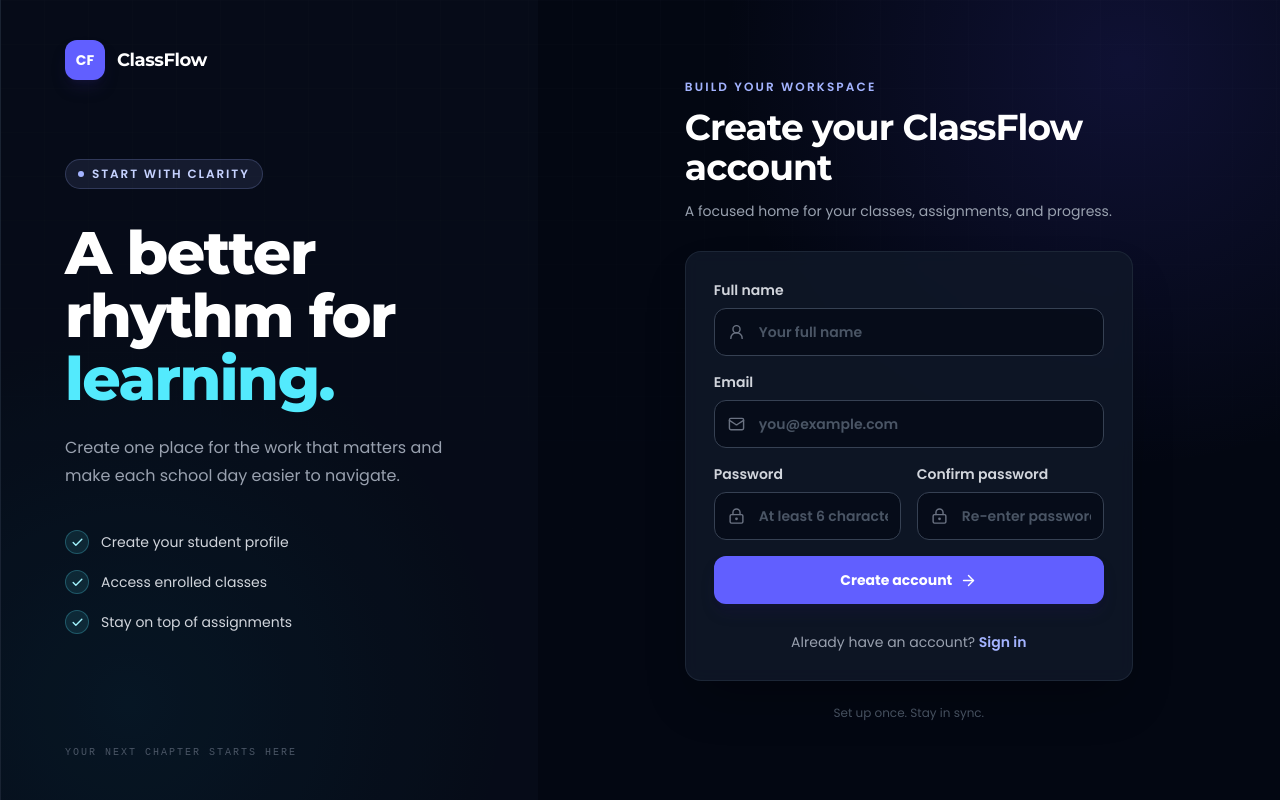
Test: Signup › submits normalized data and shows the loading spinner
Type " Ada Lovelace " into the field labelled "Full name" at (909, 332), box [714,308,1104,356]
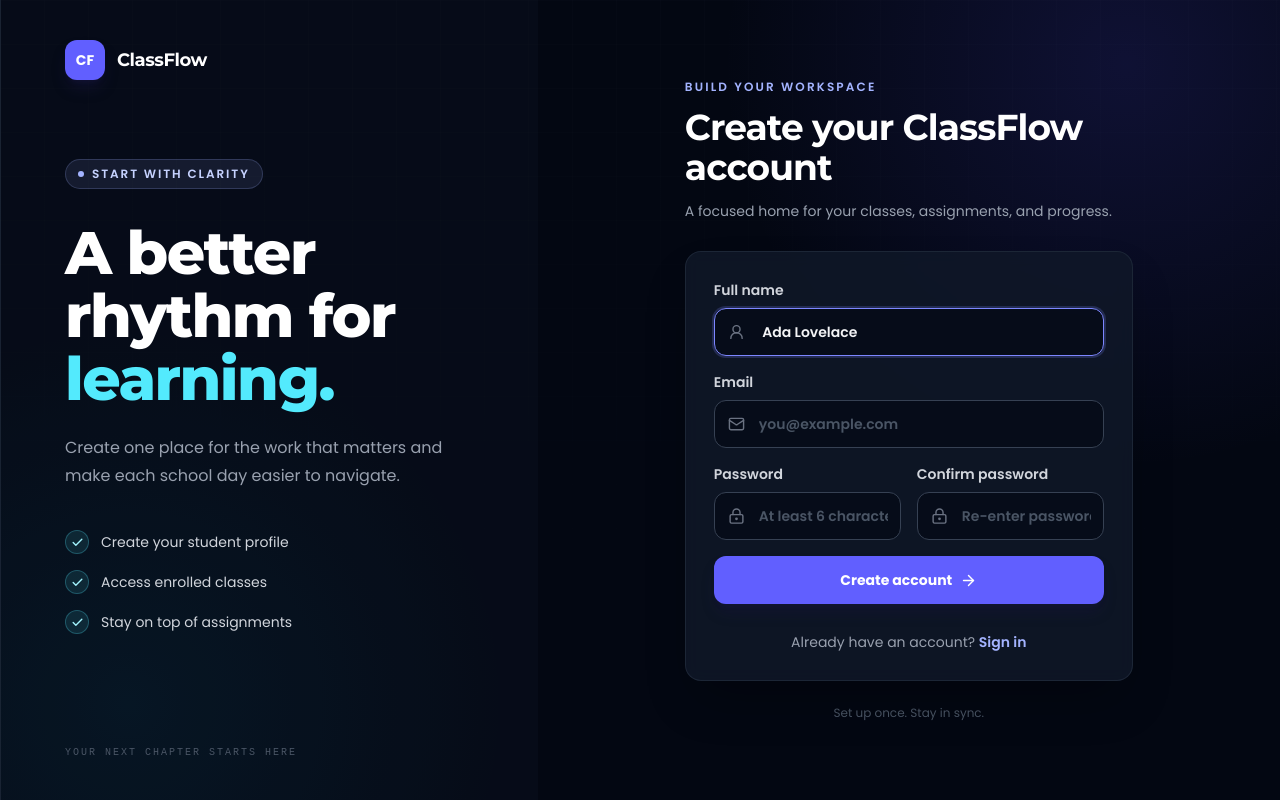
Type " ADA@EXAMPLE.COM " into the field labelled "Email" at (909, 424), box [714,400,1104,448]
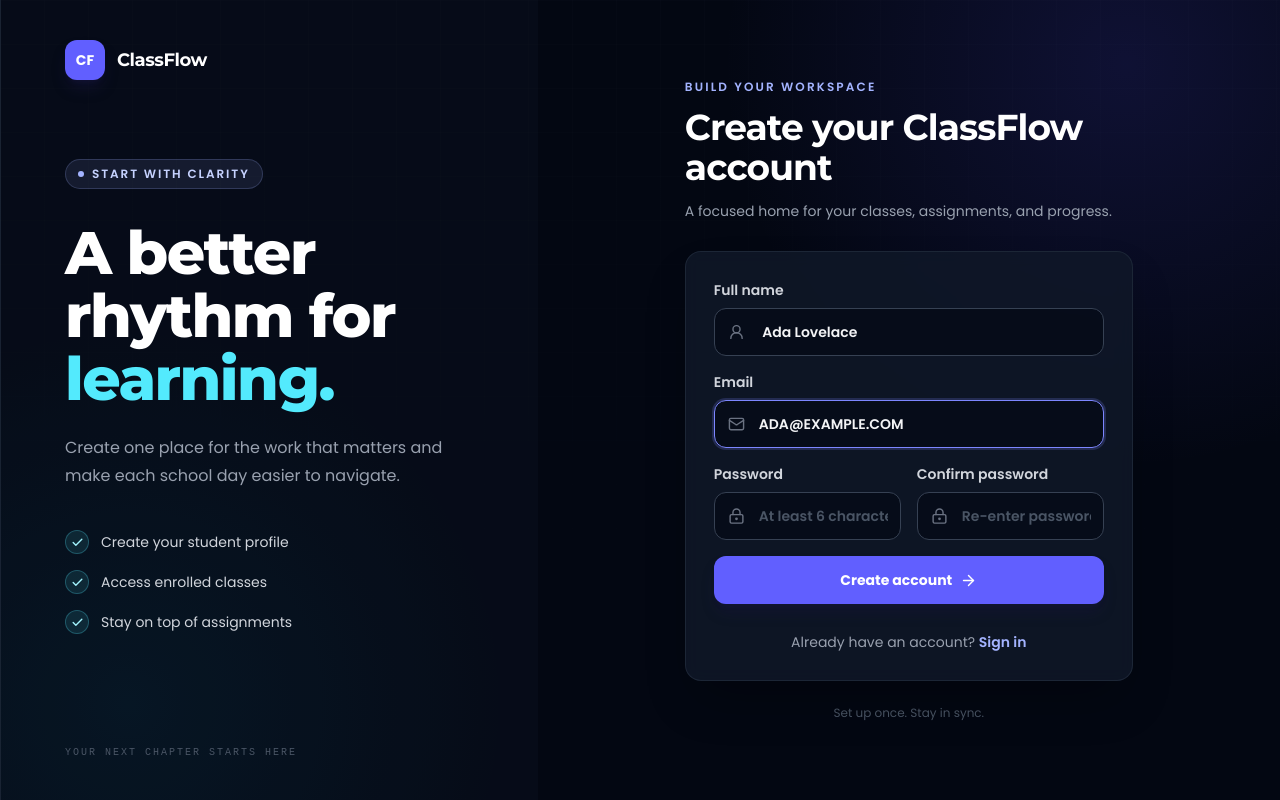
Type "secret123" into the password field labelled "Password" at (807, 516), box [714,492,901,540]
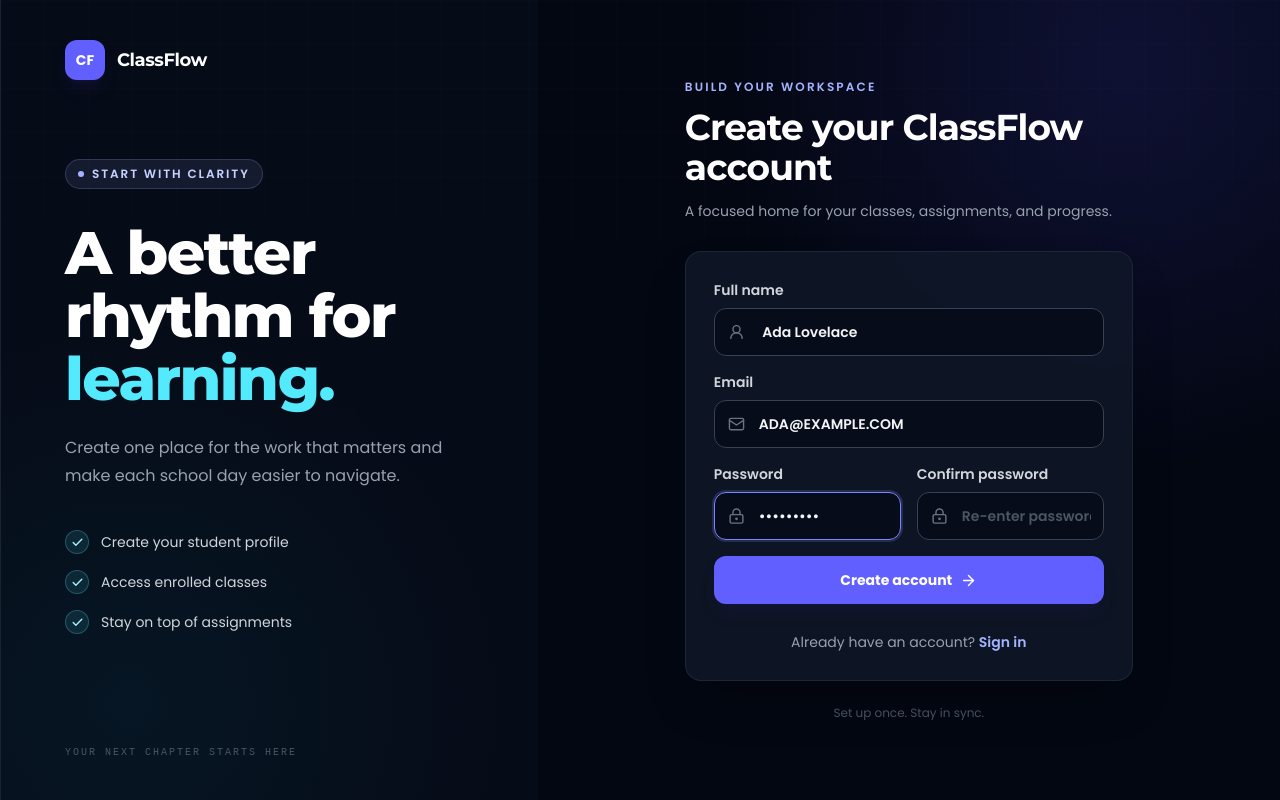
Type "secret123" into the password field labelled "Confirm password" at (1010, 516), box [917,492,1104,540]
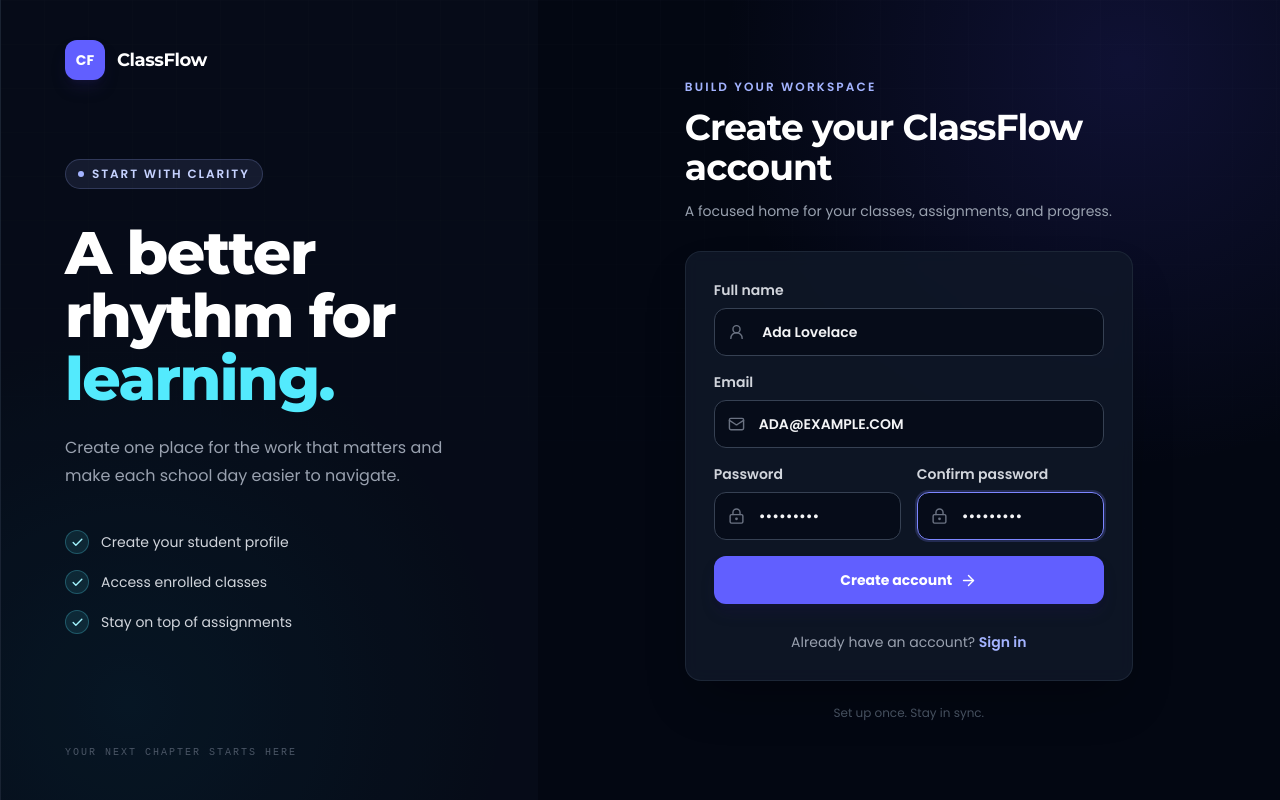
Click the button "Create account" at (909, 580), box [714,556,1104,604]
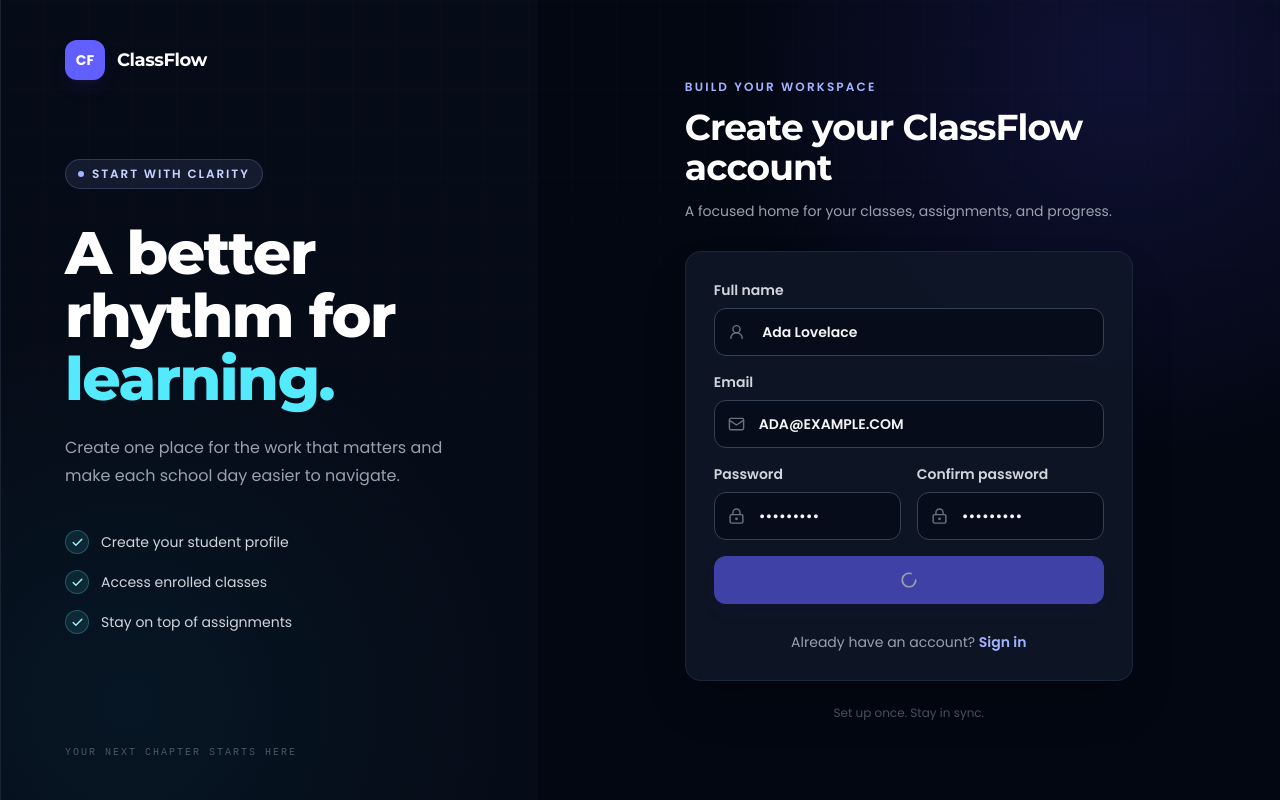
Expected: the button named "Creating account" is disabled, [714,556,1104,604]
Expected: the message named "Creating account" is shown, [900,571,918,589]
